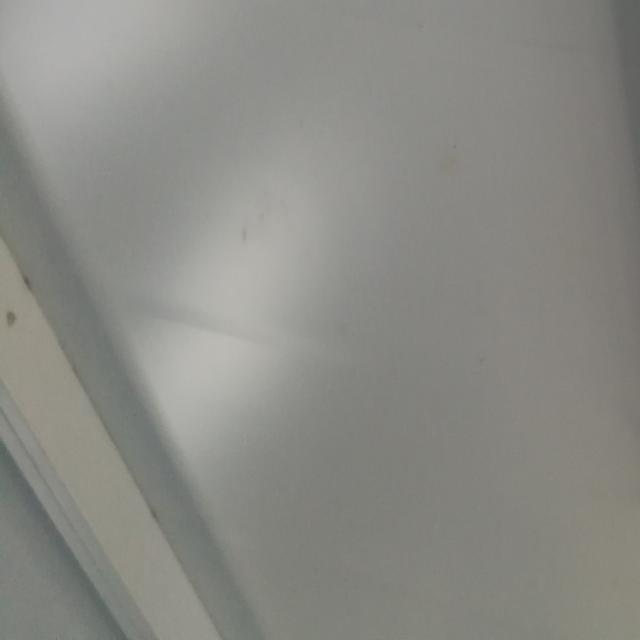fluorescent tube: (569, 0, 640, 588)
